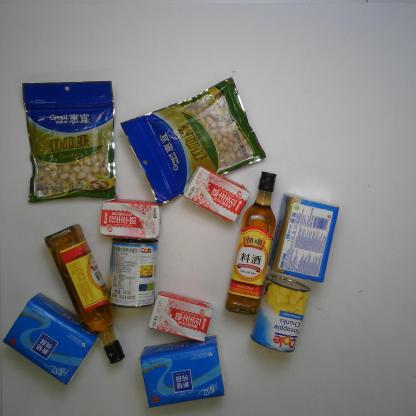Canned Food: (249, 273, 312, 353), (106, 235, 160, 310)
Dried Fruit: (119, 75, 270, 206), (21, 79, 118, 203)
Milk: (182, 164, 252, 224), (148, 290, 214, 343), (98, 195, 162, 241)
Seasoner: (44, 222, 125, 365), (224, 170, 278, 316)
Tissue: (2, 292, 100, 387), (268, 191, 340, 284), (139, 334, 227, 410)
